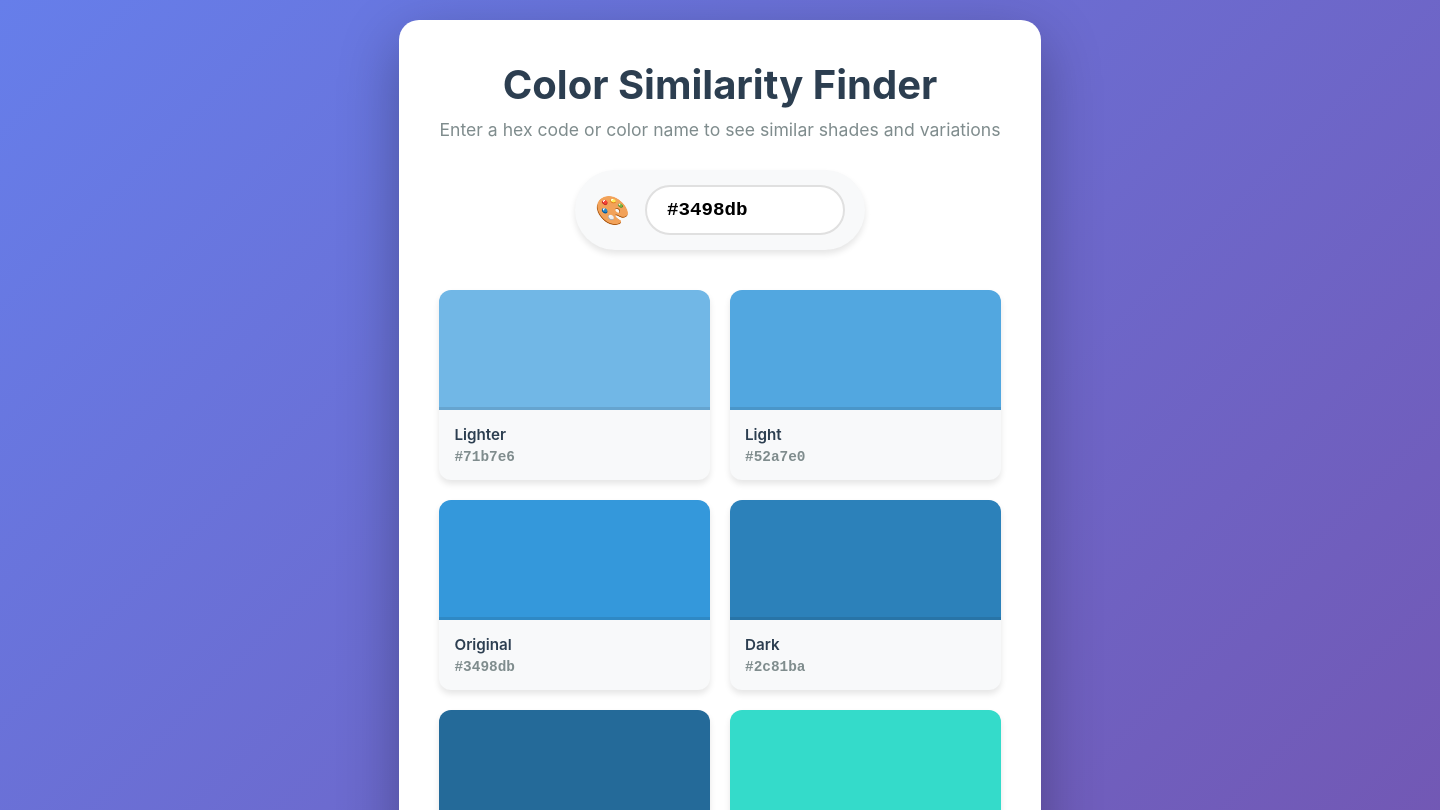
Test case: HTML Injection Security › prevents XSS via javascript: protocol
The width and height of the screenshot is (1440, 810).
Replace the text in the field with "javascript:alert(\"xss\")" at (745, 210), box [645, 185, 845, 235]
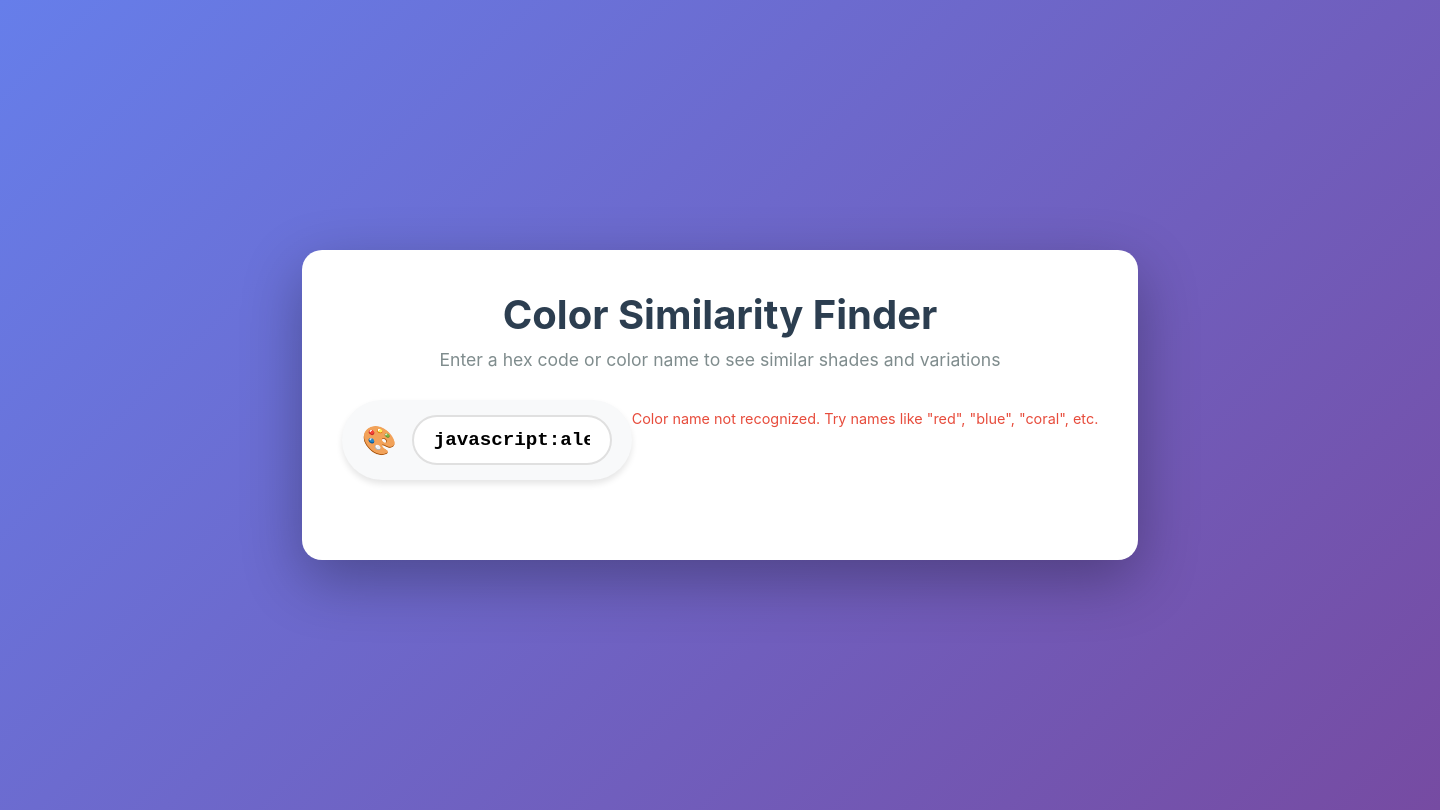
Expected: the text "Color name not recognized" is shown, [632, 410, 1098, 427]
